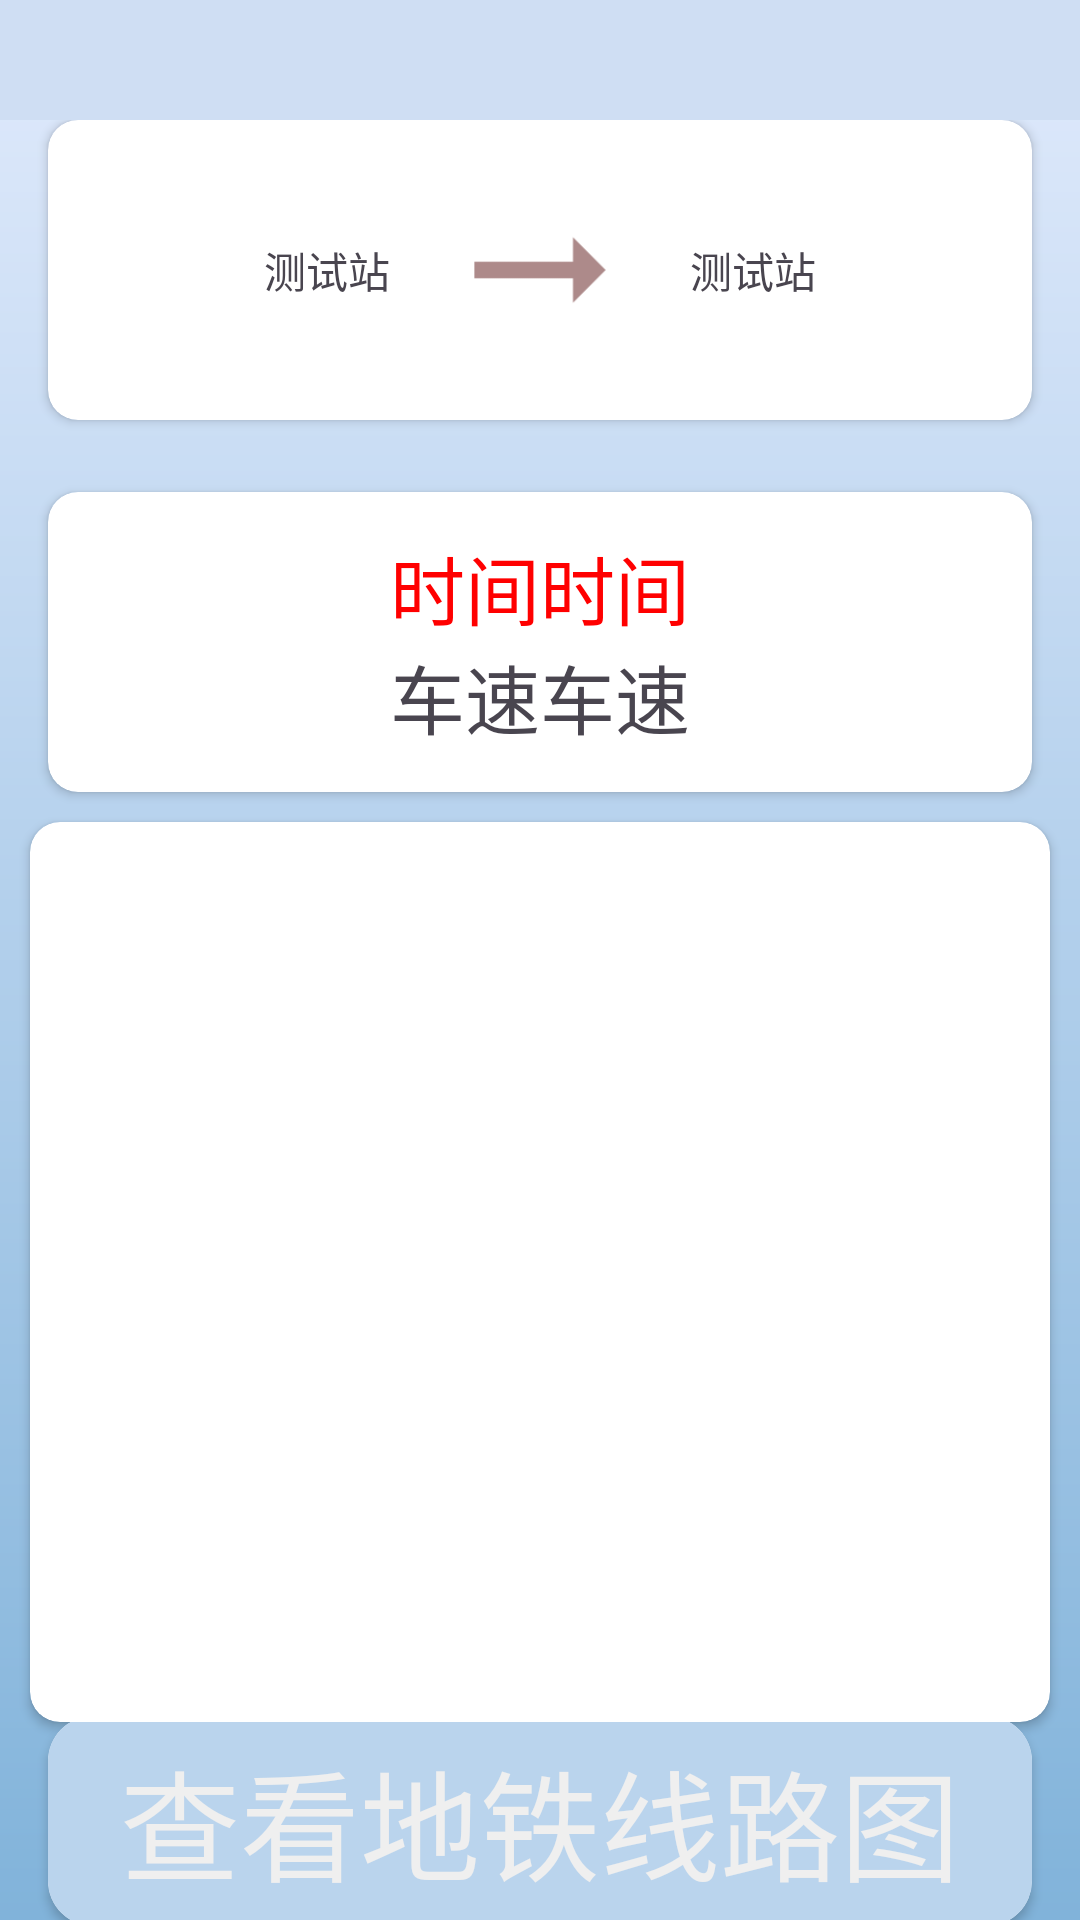

Named icons in this screenshot (1080 x 1920) and their bounding boxes, bbox(x1, y1, x2, y2):
metro to: bbox(474, 238, 606, 302)
